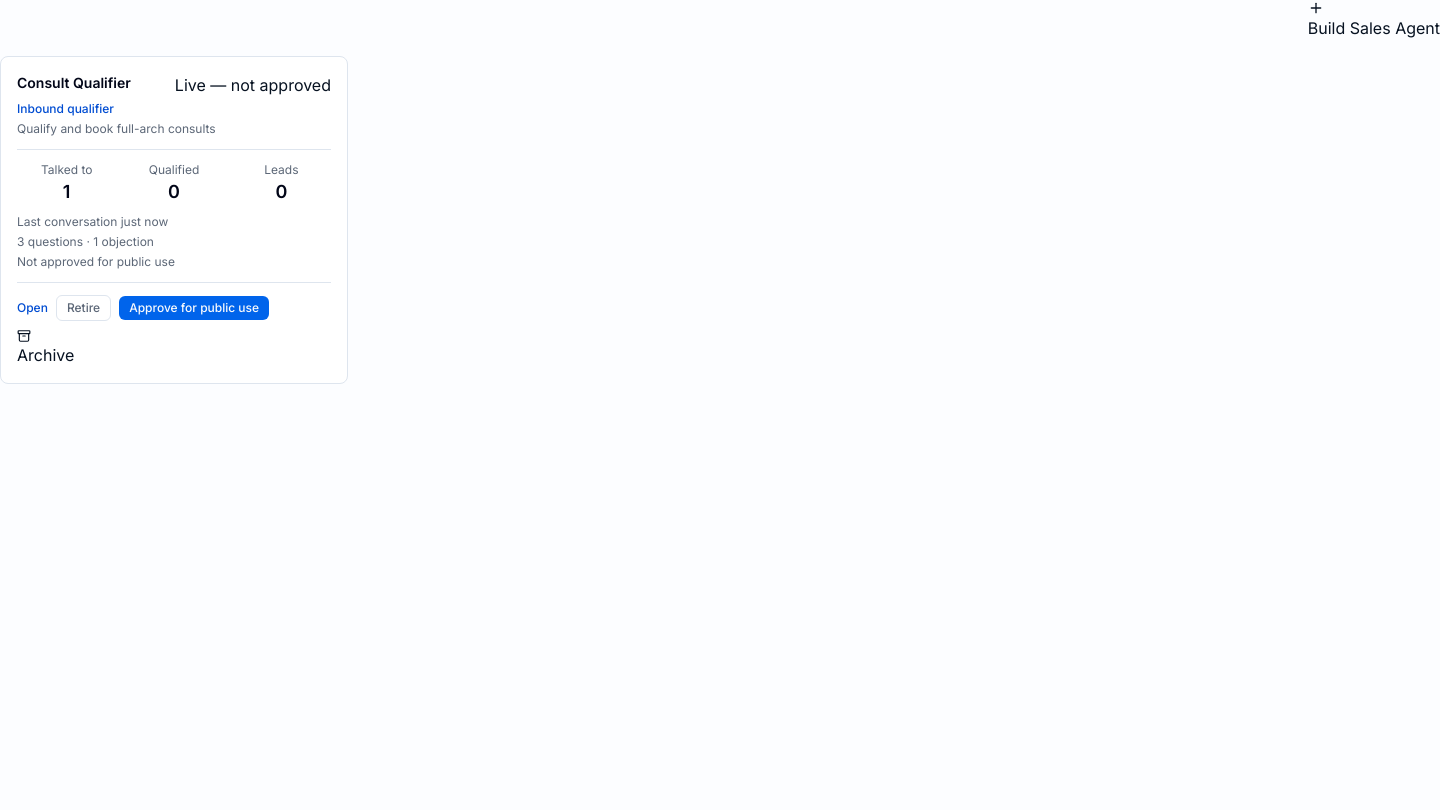
Test: opening an agent › shows the conversations this agent had, and only this agent's
The image size is (1440, 810).
What coordinates should you click on to do the following:
click the button "Open"
I would click on:
 (32, 308)
Its box is x1=17 y1=300 x2=48 y2=316.
(page scrolled)
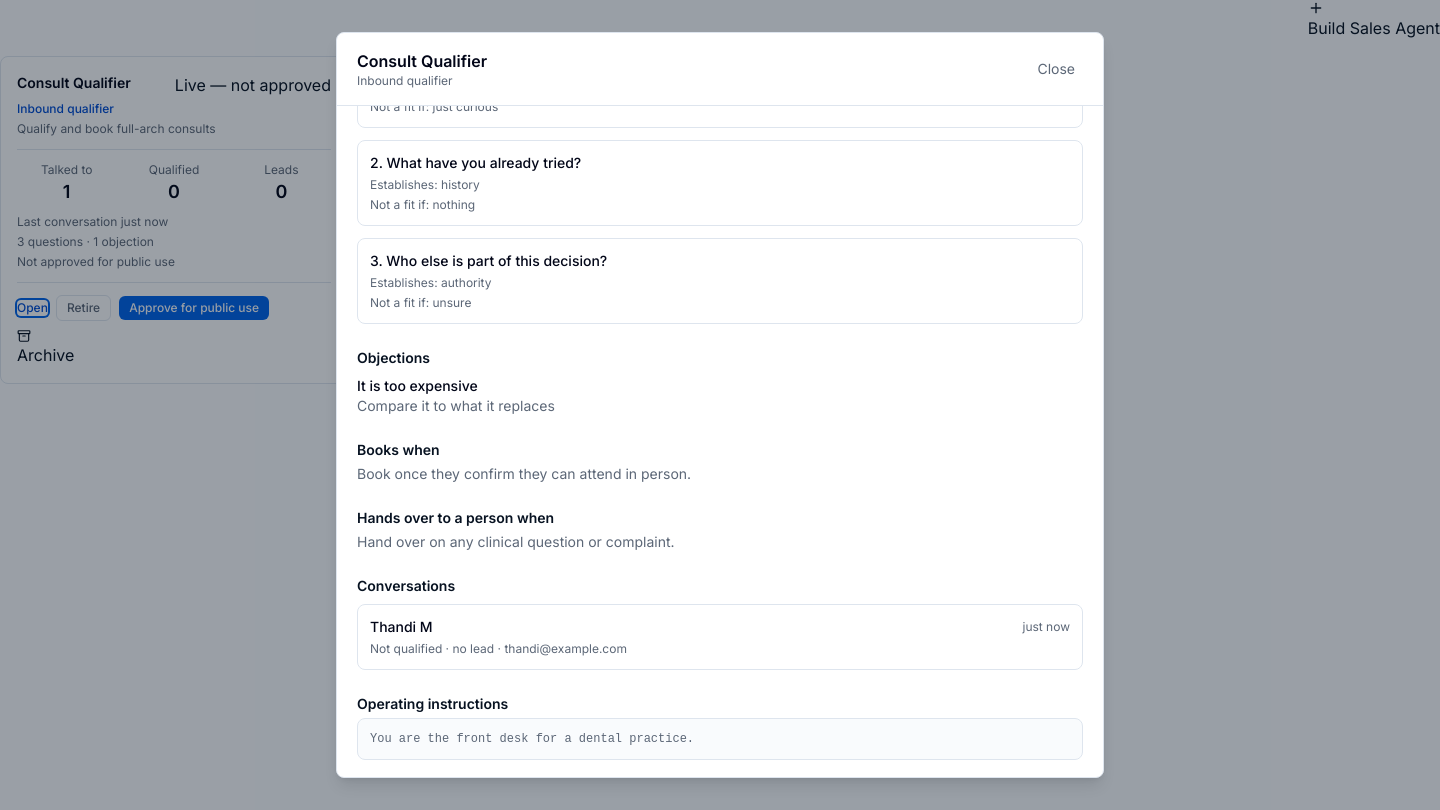
Expected: the text "Thandi M" is shown, x1=370 y1=617 x2=433 y2=637
